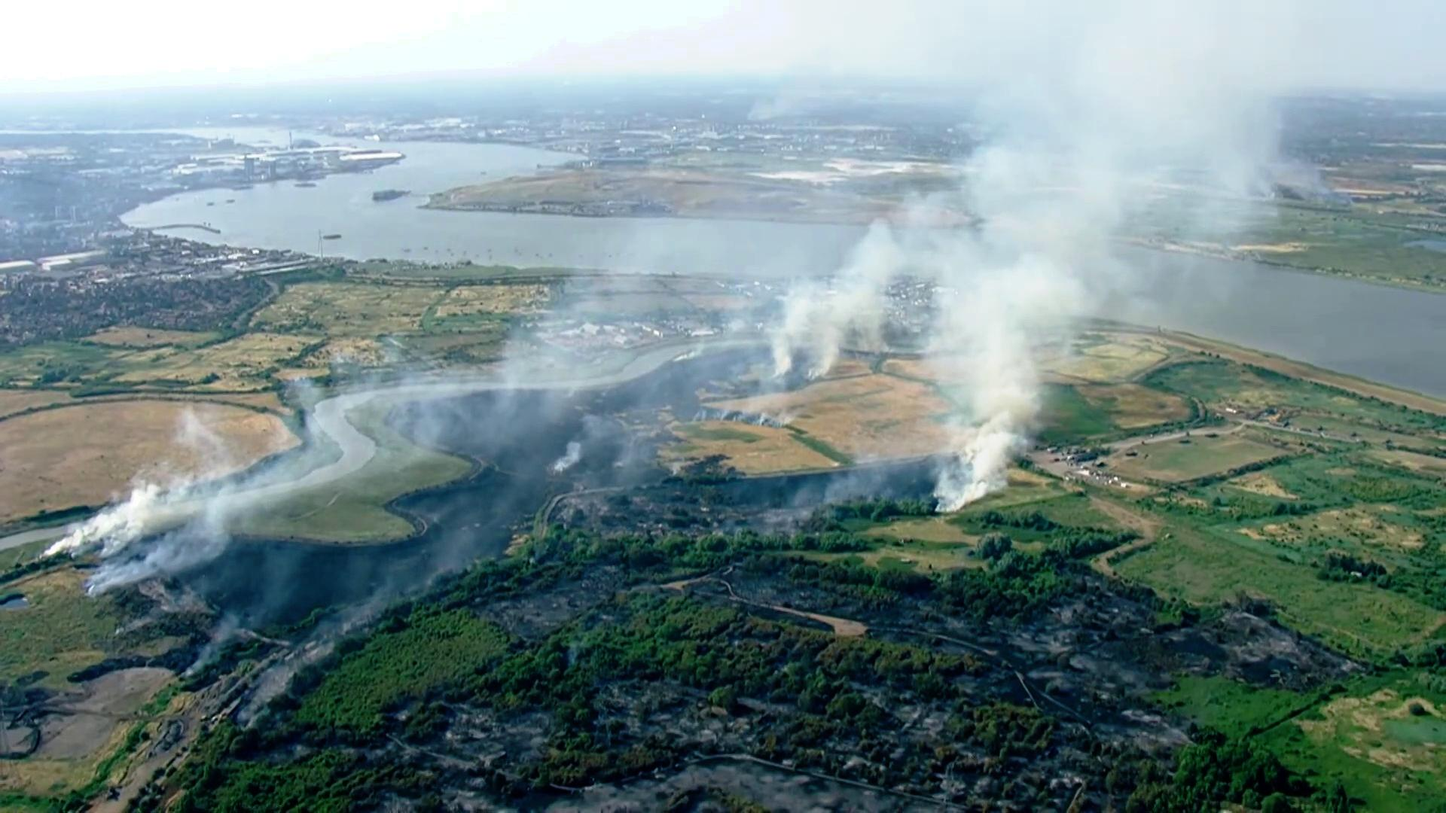smoke: (1015, 22, 1302, 236), (757, 241, 898, 392), (961, 283, 1055, 440), (105, 469, 213, 562)
